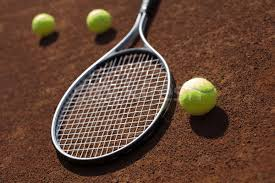tennis_ball: (178, 76, 217, 117), (86, 8, 111, 34), (32, 13, 55, 37)
